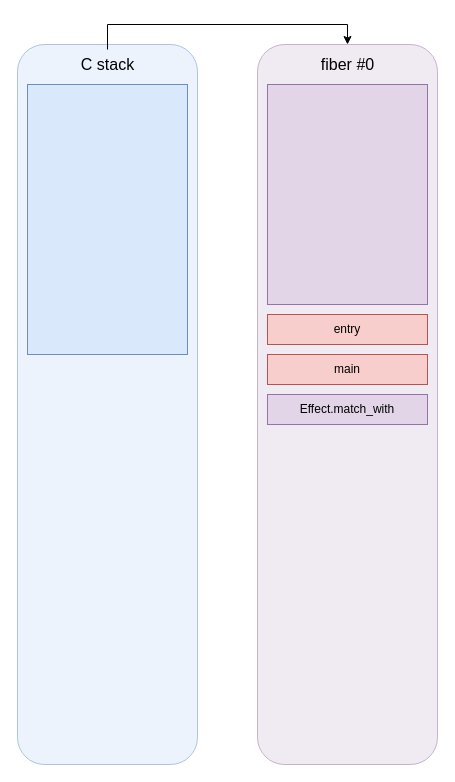
Image size: 455x782. Some labels were removed from this diagram. The shapes that lost their labels are listed below. From the top down, each one's centre as x and y in pixels, then its label:
At (347,194): "intitialisation".
At (107,219): "initialisation".
